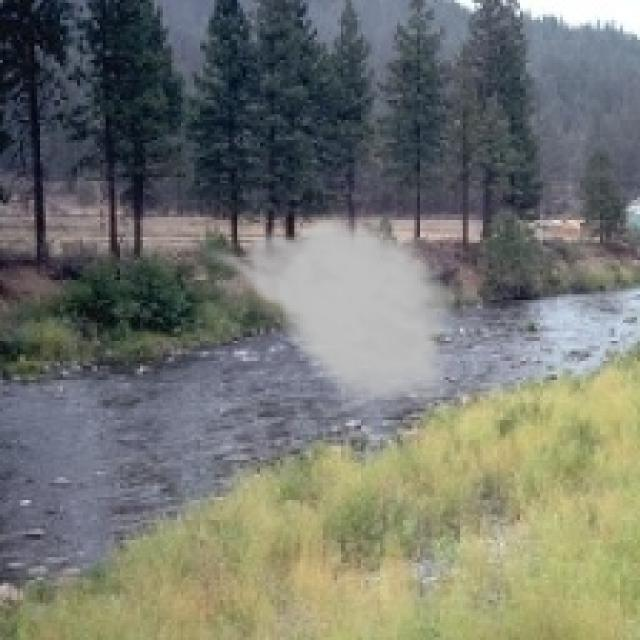Smoke: (194, 206, 463, 417)
